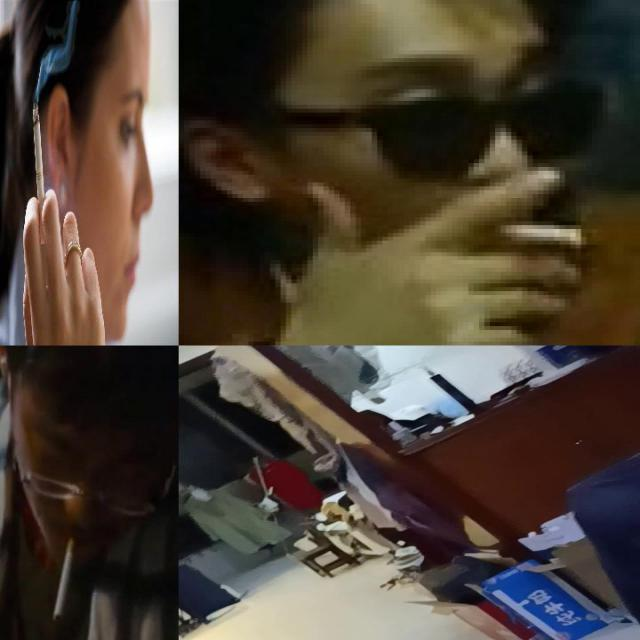cigarette: (482, 221, 586, 245), (52, 532, 78, 622), (32, 102, 48, 246)
